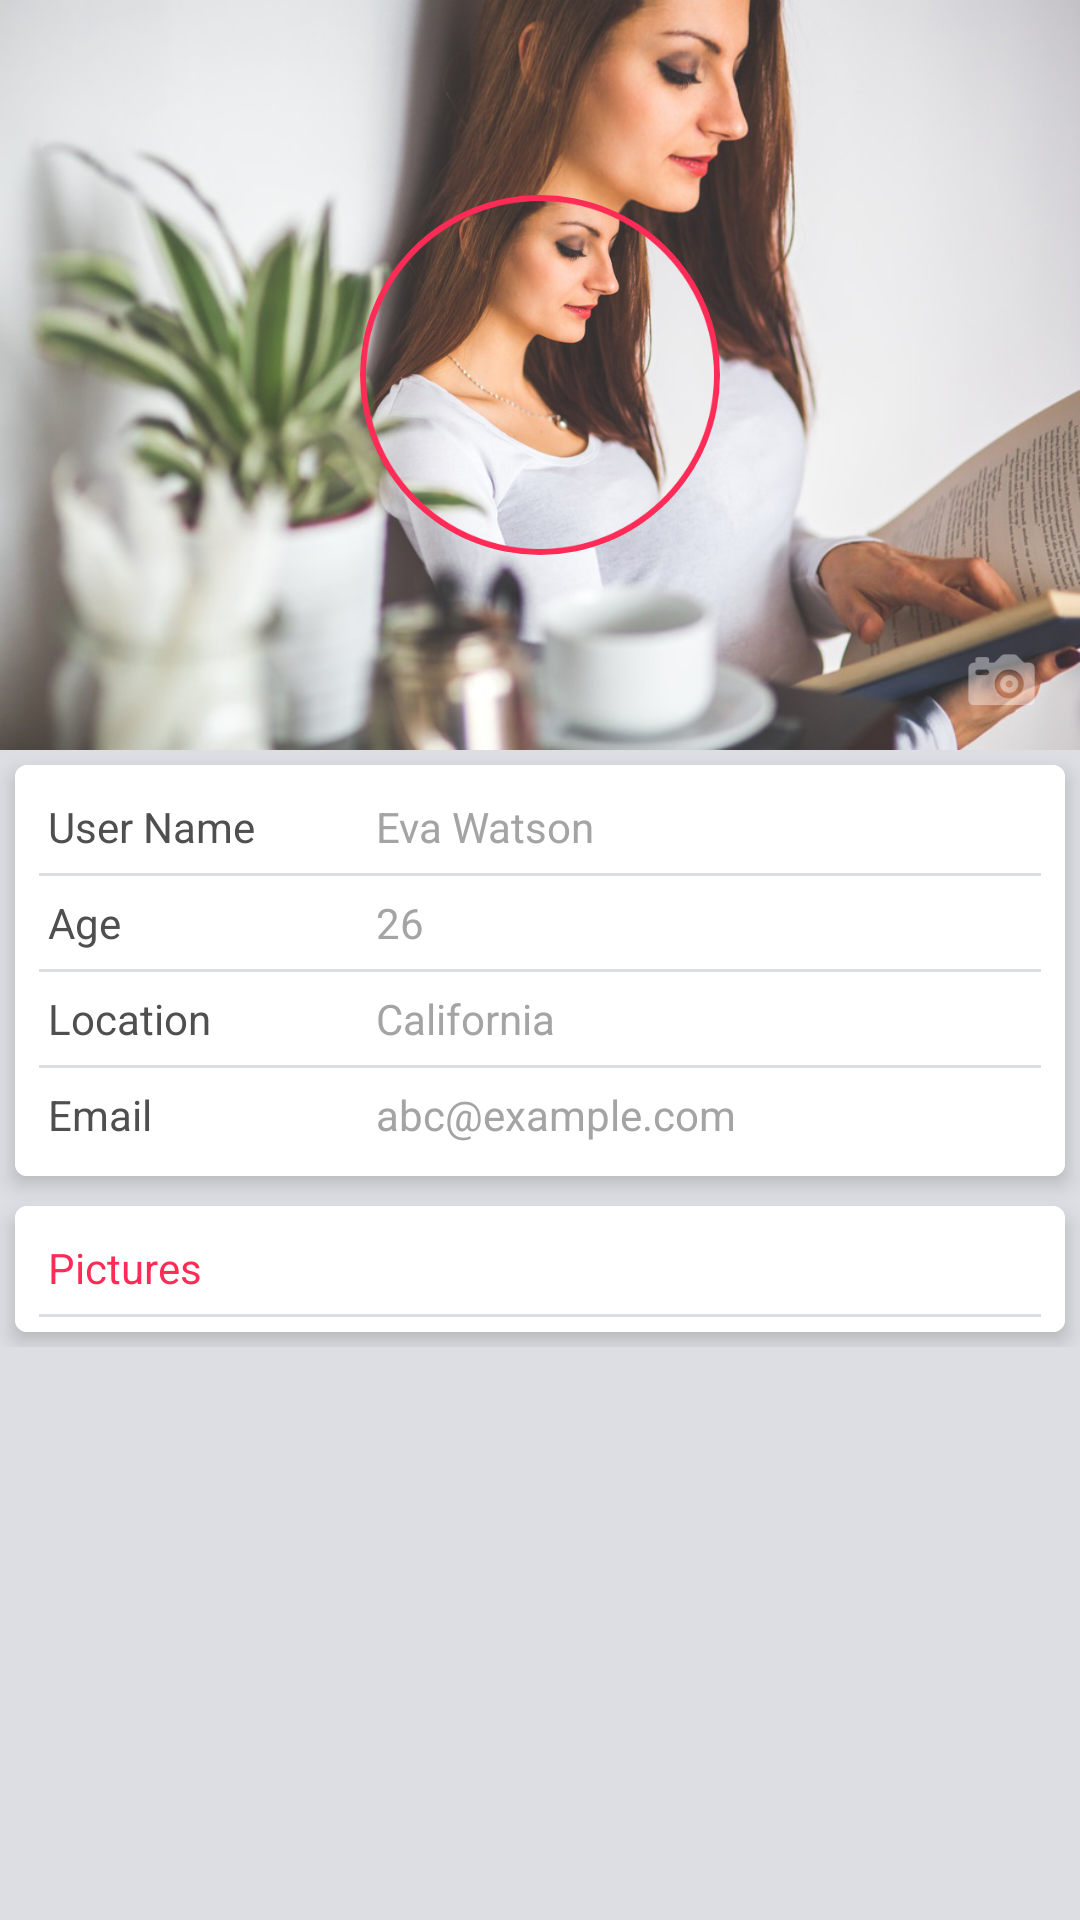

Icon click points for this 1080*1920 phone screenshot, format (x=x, y=y):
profile pic: (x=540, y=375)
